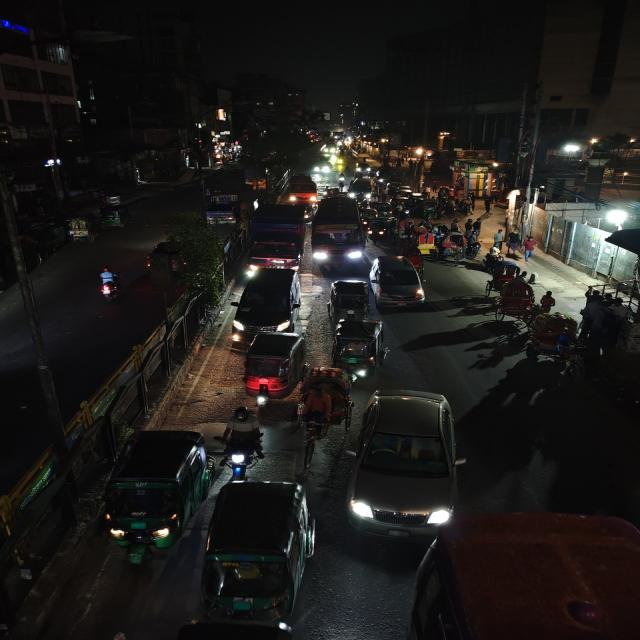bus: (312, 195, 368, 271)
car: (349, 386, 462, 544), (230, 266, 306, 340), (368, 254, 431, 310)
cng: (202, 478, 315, 622), (102, 427, 211, 563), (241, 330, 307, 402), (332, 317, 389, 379), (326, 278, 372, 324), (66, 212, 98, 246), (100, 202, 134, 230), (367, 216, 393, 240), (325, 186, 345, 197)
motorcycle: (220, 406, 266, 478), (95, 267, 122, 305)
pedestrian: (520, 234, 539, 264), (465, 217, 484, 240), (491, 226, 506, 254), (506, 230, 521, 256)
pickup_van: (200, 190, 244, 226)
rickshaw: (292, 376, 351, 449), (524, 311, 588, 371), (487, 278, 534, 324), (442, 232, 474, 262), (413, 228, 440, 258)
truck: (245, 202, 309, 275), (286, 174, 319, 204)
